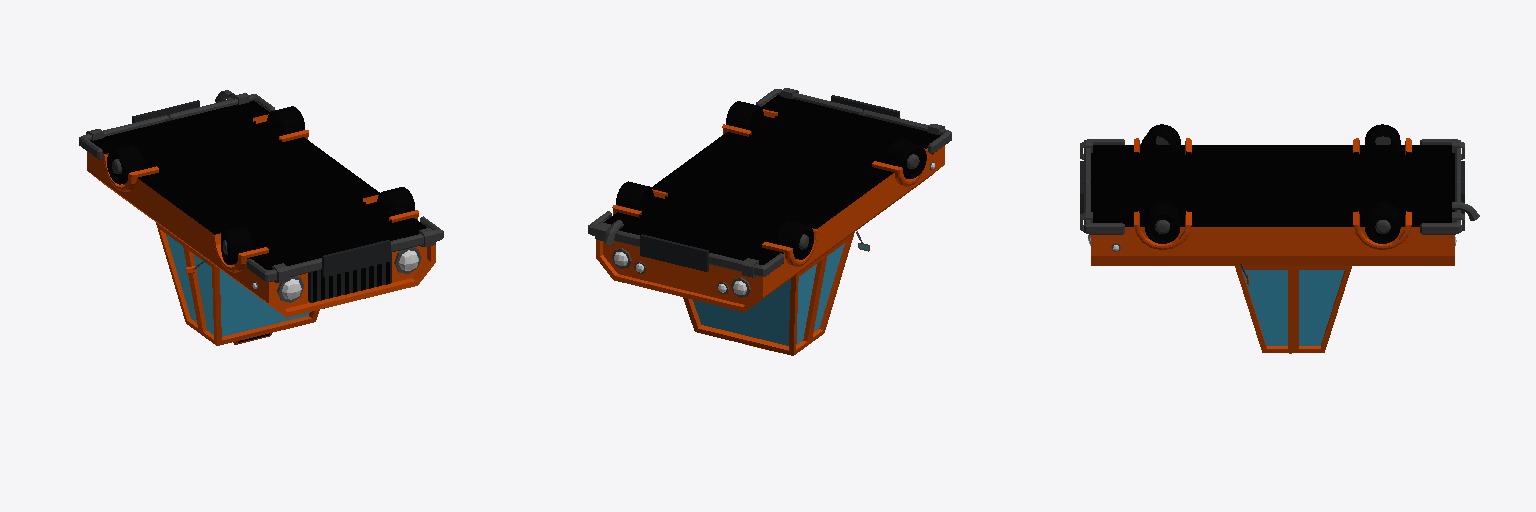
The model's file is car.obj.
3 views of the same model, side by side, from view 1: azimuth 30°, elevation 25°; view 2: azimuth 150°, elevation 25°; view 3: azimuth 270°, elevation 25° (orthographic).
Visible parts, largest first — view 1: Car_Cube.001; view 2: Car_Cube.001; view 3: Car_Cube.001.
Boxes of the visible parts, <box> form: Car_Cube.001: <box>79,90,443,345</box>; Car_Cube.001: <box>588,88,951,355</box>; Car_Cube.001: <box>1080,124,1479,353</box>.
Bounding box in the file's own units: 211 × 191 × 391.